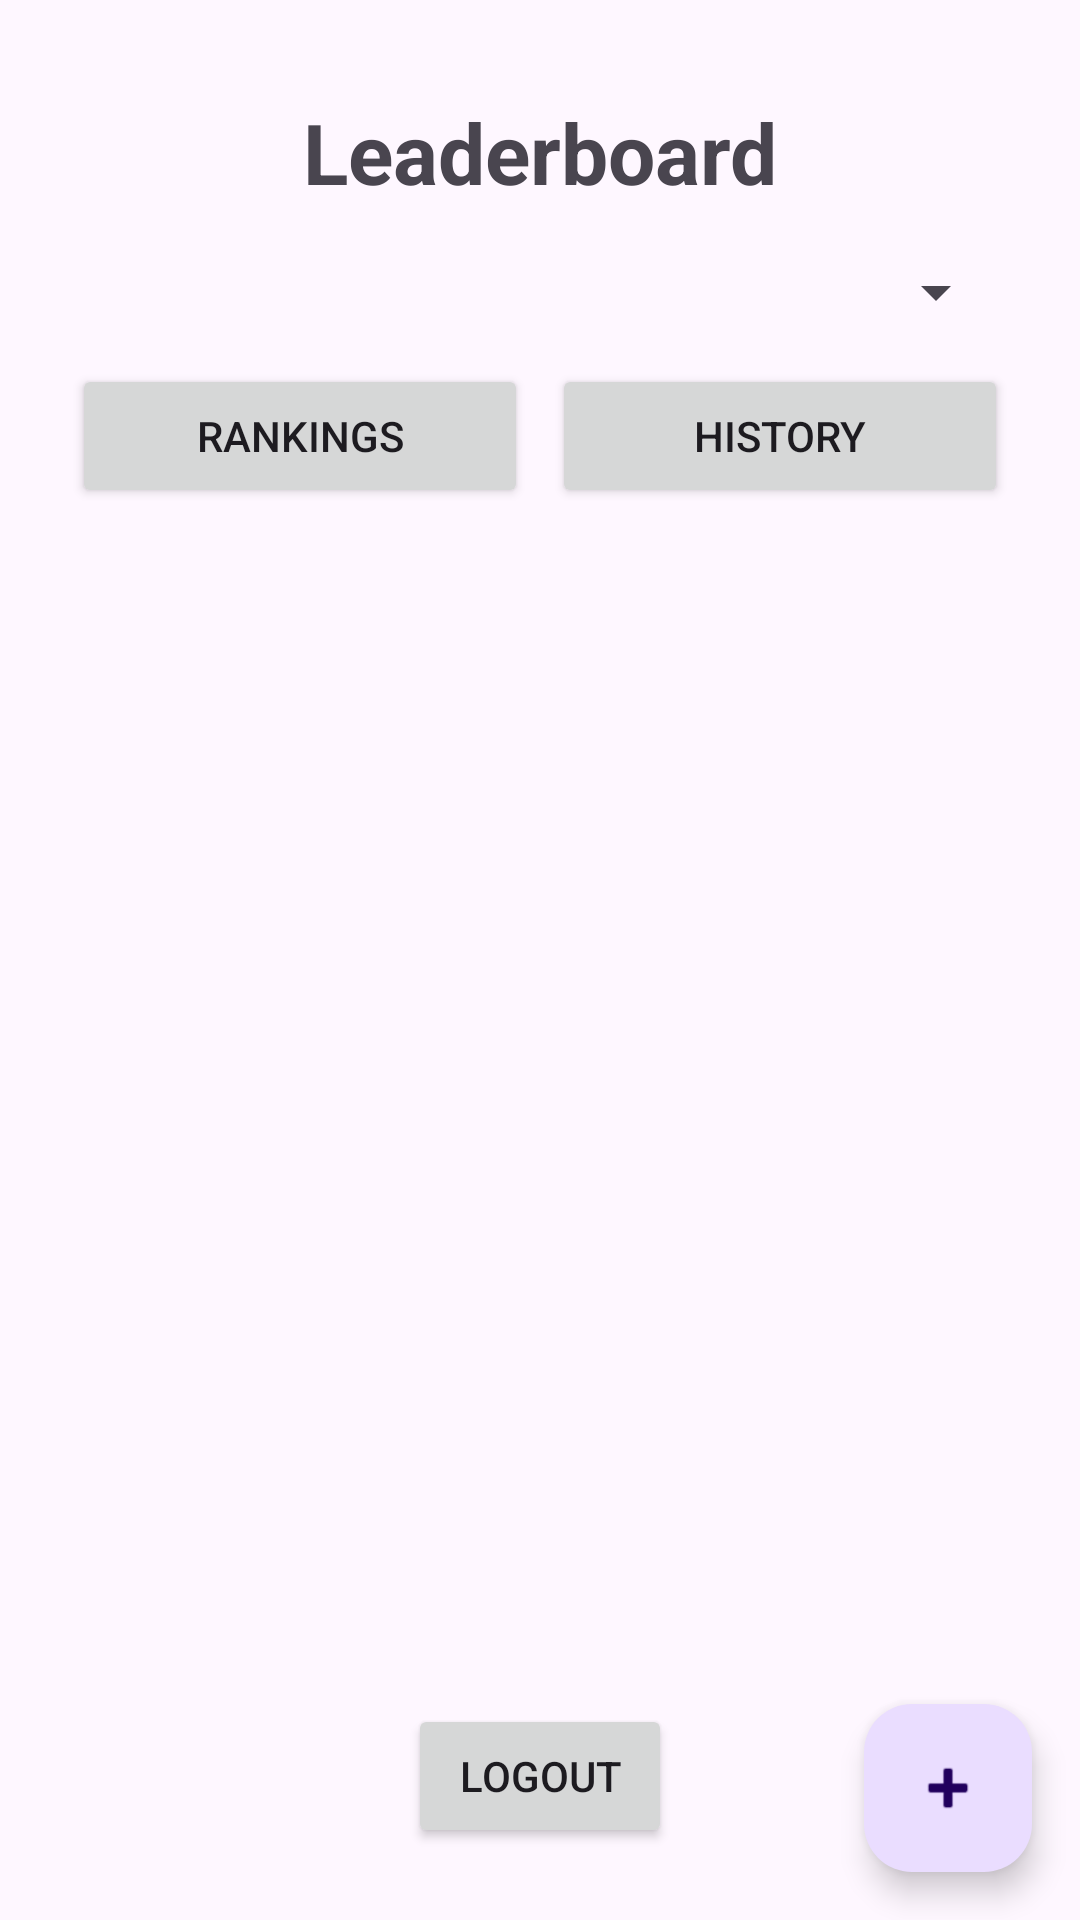

Icon bounding boxes for this 1080x1920 phone screenshot, format (x1, y1, x2, y2):
Add Win: (864, 1704, 1032, 1872)
